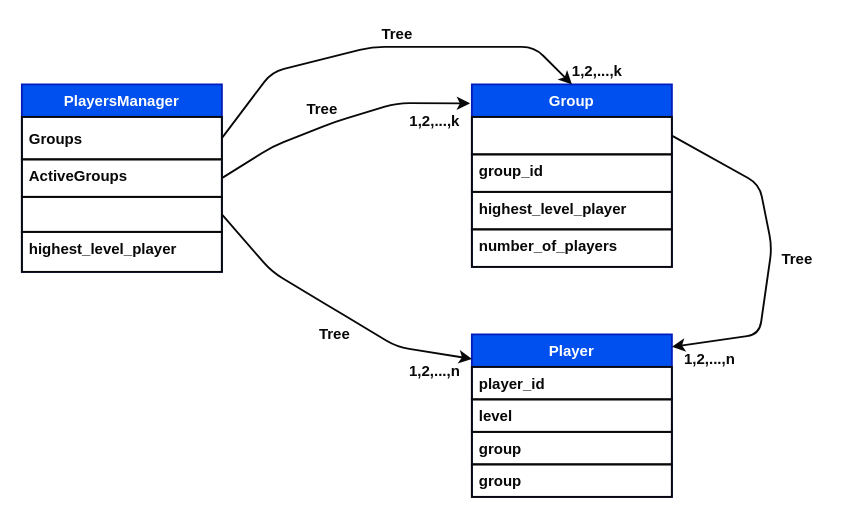
Image size: 844x521. Some labels were removed from this diagram. The shapes that lost their labels are listed below. From the top down, each one's centre as x and y in pixels, then its label:
At point 571,135: "PlayersInGroup".
At point 121,213: "Players".
